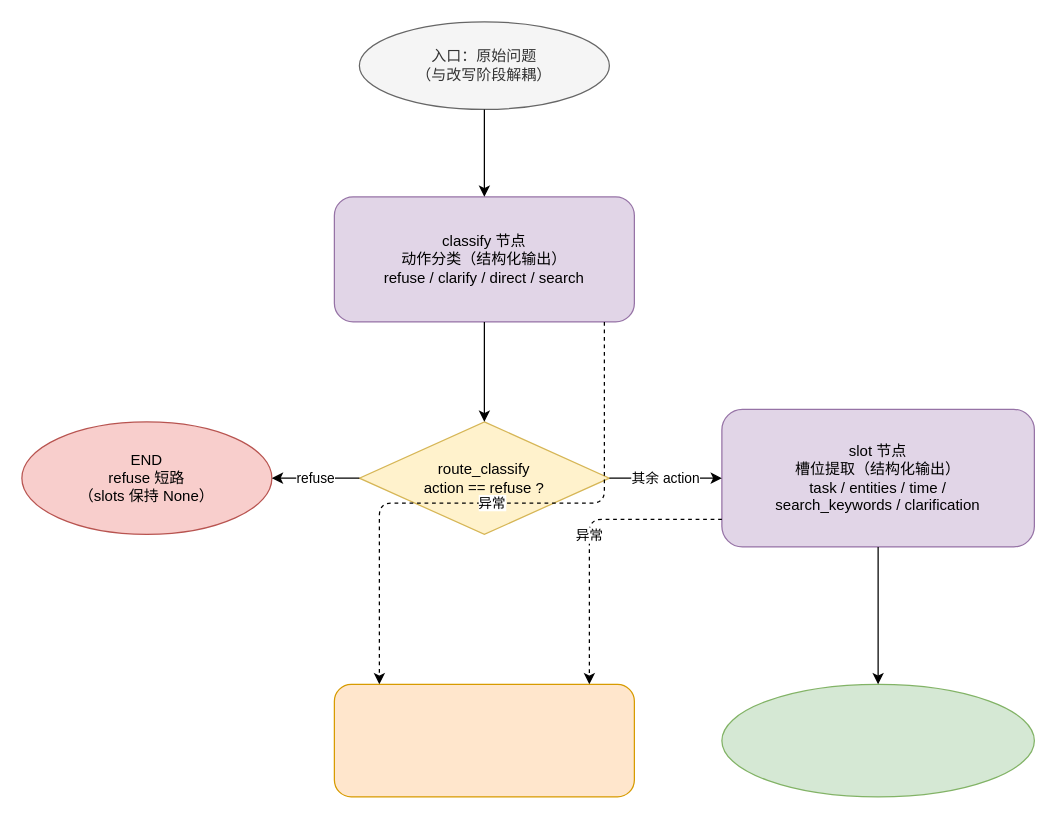
Some shapes in this 1056 by 819 pixel diagram are drawn without their labels. The box of each missing label's shape, as (x1, y1, x2, y2) in pixels:
END gate(question) 返回 action + slots: (721, 683, 1034, 797)
降级兜底 classify / slot 任一节点异常 → 用原问题作检索关键词: (333, 683, 634, 797)
